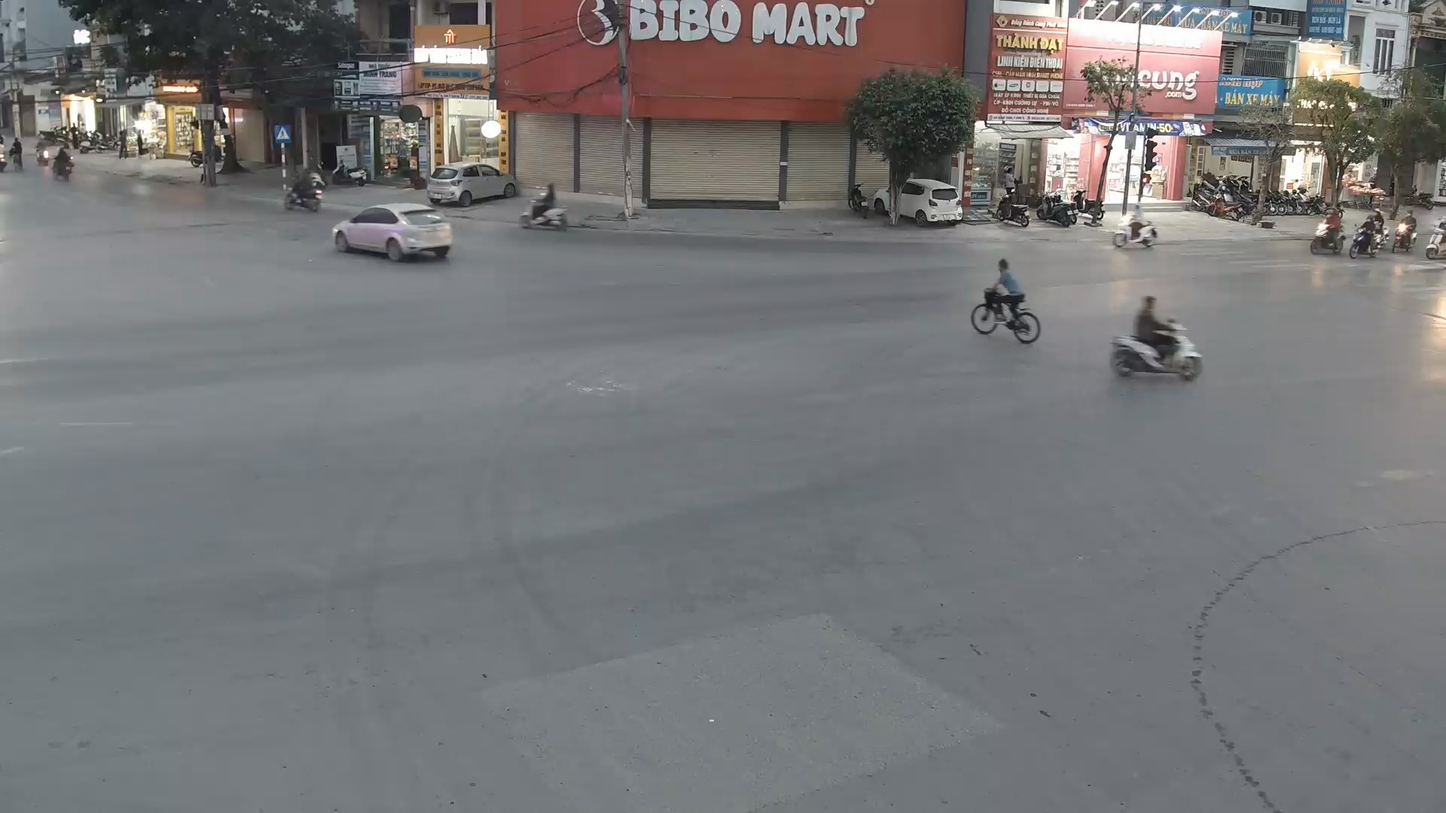car: (330, 201, 455, 265), (426, 159, 520, 208)
motorbike: (1104, 293, 1205, 384), (968, 256, 1045, 346)
